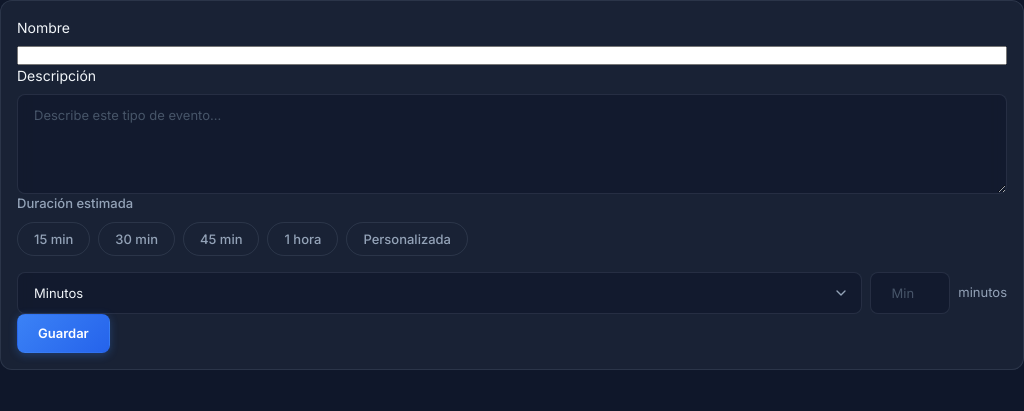
US_003, US_004, US_006: Creación de Tipos de Eventos › 1. Crea un evento en estado Activo si todos los campos obligatorios están llenos
Type "Consulta General" into the field labelled "Nombre" at [512, 56], box x1=17 y1=46 x2=1007 y2=65
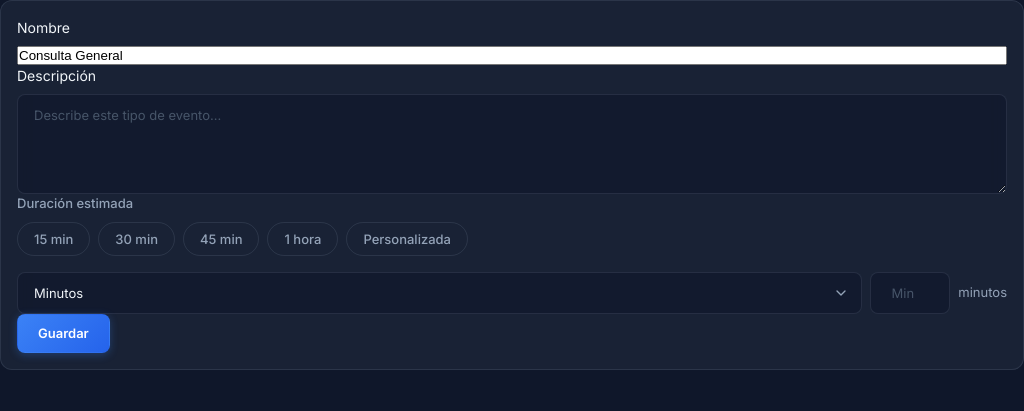
Type "30" into the number field named "duración" at [910, 292], box x1=870 y1=272 x2=950 y2=314
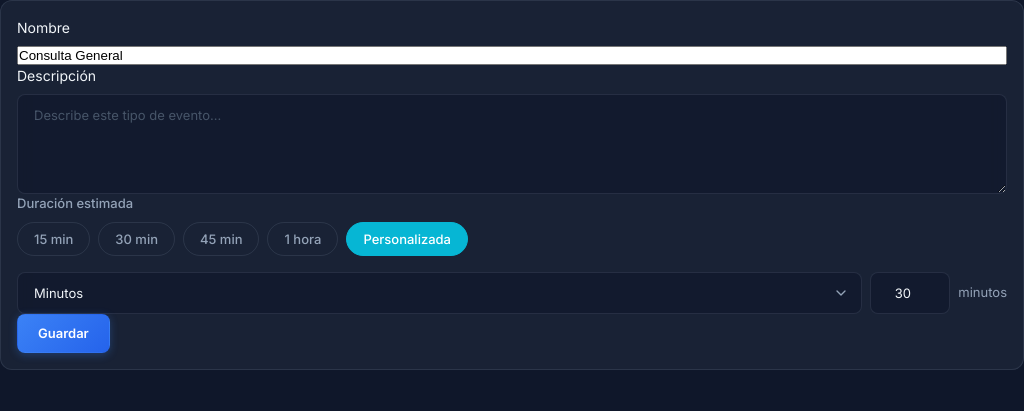
Click the button "Guardar" at [63, 333], box x1=17 y1=314 x2=110 y2=352
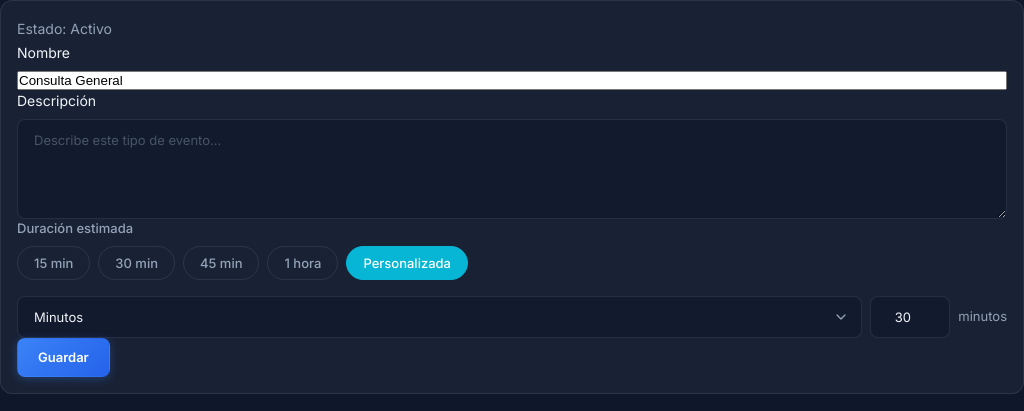
Expected: the text "Estado: Activo" is shown, x1=17 y1=20 x2=112 y2=37
